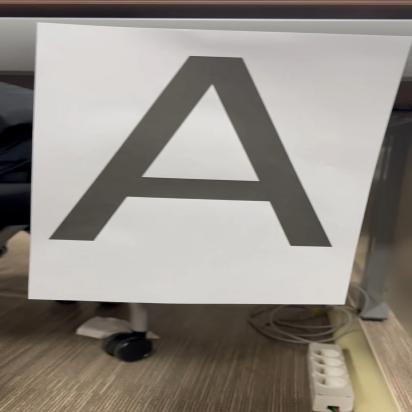seat: (37, 39, 347, 254)
